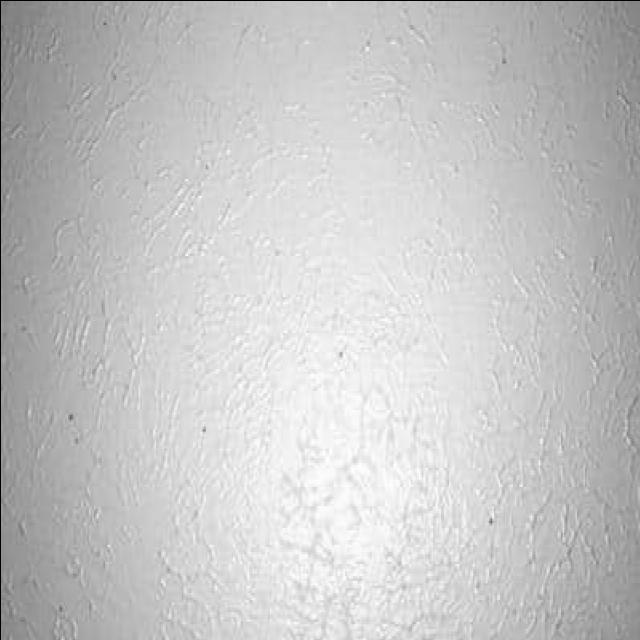pin holes: (478, 498, 506, 530), (50, 402, 79, 429), (191, 418, 219, 439), (96, 12, 114, 44), (64, 430, 85, 453), (334, 338, 350, 366), (494, 52, 512, 74), (50, 596, 67, 616)
stain marks: (3, 0, 640, 639)
